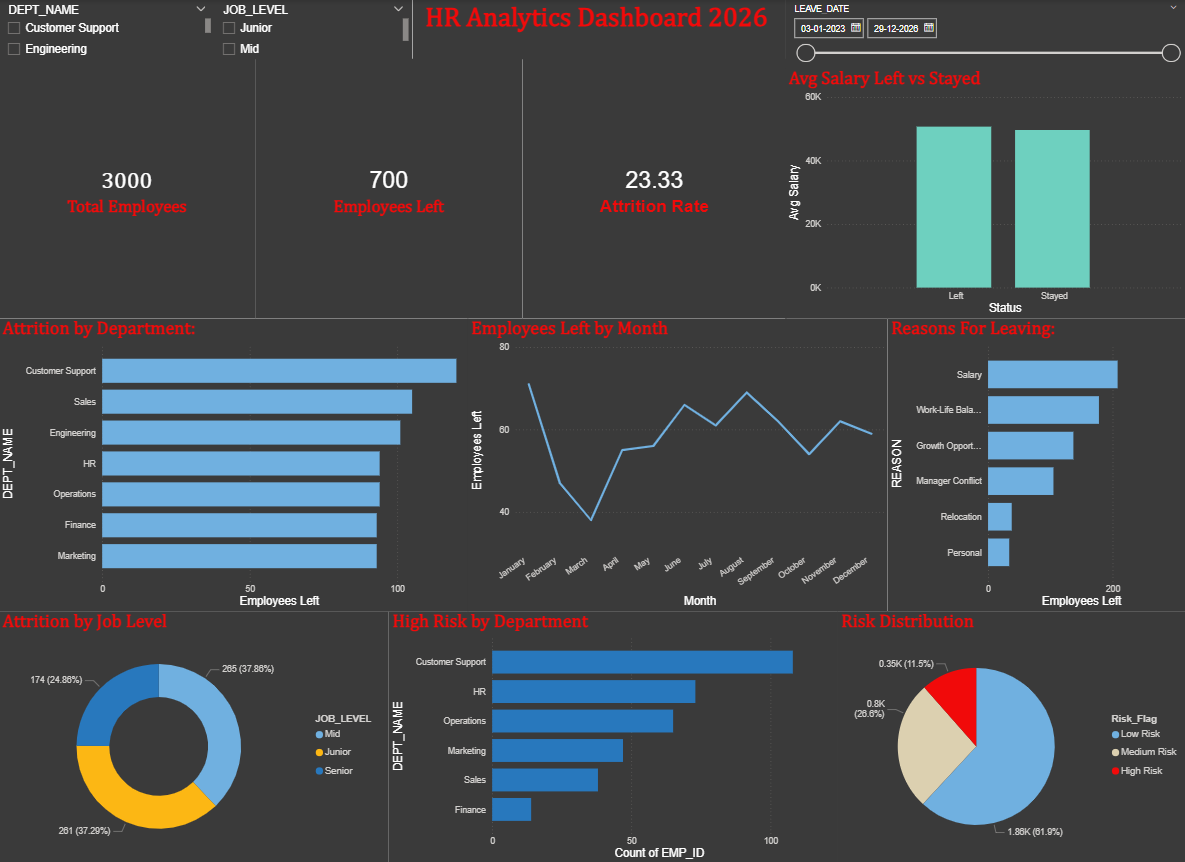

The page's visual inventory and layout, read from the dashboard file:
{"tool":"powerbi","page":{"name":"Page 1","canvas":[1650,1200],"ordinal":0},"visuals":[{"type":"card","fields":{"Values":["employee.Total Employees"]},"box":[0,82.4,355.7,361],"z":0},{"type":"card","fields":{"Values":["employee.Employees Left"]},"box":[355.7,82.4,371.5,361],"z":1000},{"type":"card","fields":{"Values":["employee.Attrition Rate"]},"box":[727.2,82.4,366.2,361],"z":2000},{"type":"textbox","box":[574.8,0,518.7,82.4],"z":2001},{"type":"clusteredColumnChart","title":"Avg Salary Left vs Stayed","fields":{"Category":["employee.Status"],"Y":["employee.Avg Salary"]},"box":[1093.5,96.4,557.2,347],"z":2002},{"type":"clusteredBarChart","title":"Attrition by Department:","fields":{"Y":["employee.Employees Left"],"Category":["departments.DEPT_NAME"]},"box":[0,443.3,651.9,406.5],"z":2003},{"type":"lineChart","fields":{"Y":["employee.Employees Left"],"Category":["attrition.LEAVE_DATE.Variation.Date Hierarchy.Month"]},"box":[651.9,443.3,583.5,406.5],"z":2004},{"type":"clusteredBarChart","title":" Reasons For Leaving:","fields":{"Y":["employee.Employees Left"],"Category":["attrition.REASON"]},"box":[1235.4,443.3,415.3,406.5],"z":2005},{"type":"donutChart","title":"Attrition by Job Level","fields":{"Y":["employee.Employees Left"],"Category":["employee.JOB_LEVEL"]},"box":[0,849.9,541.5,350.5],"z":2006},{"type":"pieChart","title":"Risk Distribution","fields":{"Y":["CountNonNull(employee.EMP_ID)"],"Category":["employee.Risk_Flag"]},"box":[1165.3,849.9,485.4,350.5],"z":2007},{"type":"clusteredBarChart","title":" High Risk by Department","fields":{"Y":["CountNonNull(employee.EMP_ID)"],"Category":["departments.DEPT_NAME"]},"box":[541.5,849.9,623.8,350.5],"z":2008},{"type":"slicer","fields":{"Values":["departments.DEPT_NAME"]},"box":[0,0,299.7,82.4],"z":2009},{"type":"slicer","fields":{"Values":["employee.JOB_LEVEL"]},"box":[299.7,0,275.1,82.4],"z":2010},{"type":"slicer","fields":{"Values":["attrition.LEAVE_DATE"]},"box":[1093.5,0,557.2,96.4],"z":2011}]}

Visuals, with their boxes in screenshot pixels (x1, y1, x2, y2), scaled from the page's 1650x1200 canvas onto the 1185x862 screenshot:
card - employee.Total Employees: bbox(0, 59, 255, 319)
card - employee.Employees Left: bbox(255, 59, 522, 319)
card - employee.Attrition Rate: bbox(522, 59, 785, 319)
textbox: bbox(413, 0, 785, 59)
"Avg Salary Left vs Stayed" clusteredColumnChart: bbox(785, 69, 1184, 319)
"Attrition by Department:" clusteredBarChart: bbox(0, 318, 468, 610)
lineChart - employee.Employees Left x attrition.LEAVE_DATE.Variation.Date Hierarchy.Month: bbox(468, 318, 887, 610)
" Reasons For Leaving:" clusteredBarChart: bbox(887, 318, 1184, 610)
"Attrition by Job Level" donutChart: bbox(0, 611, 389, 861)
"Risk Distribution" pieChart: bbox(837, 611, 1184, 861)
" High Risk by Department" clusteredBarChart: bbox(389, 611, 837, 861)
slicer - departments.DEPT_NAME: bbox(0, 0, 215, 59)
slicer - employee.JOB_LEVEL: bbox(215, 0, 413, 59)
slicer - attrition.LEAVE_DATE: bbox(785, 0, 1184, 69)
